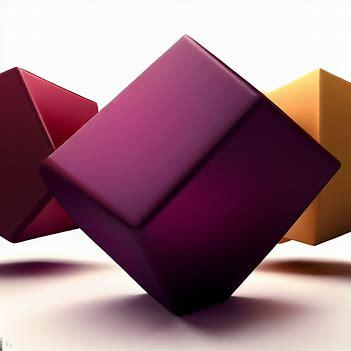cube: (42, 34, 339, 313)
